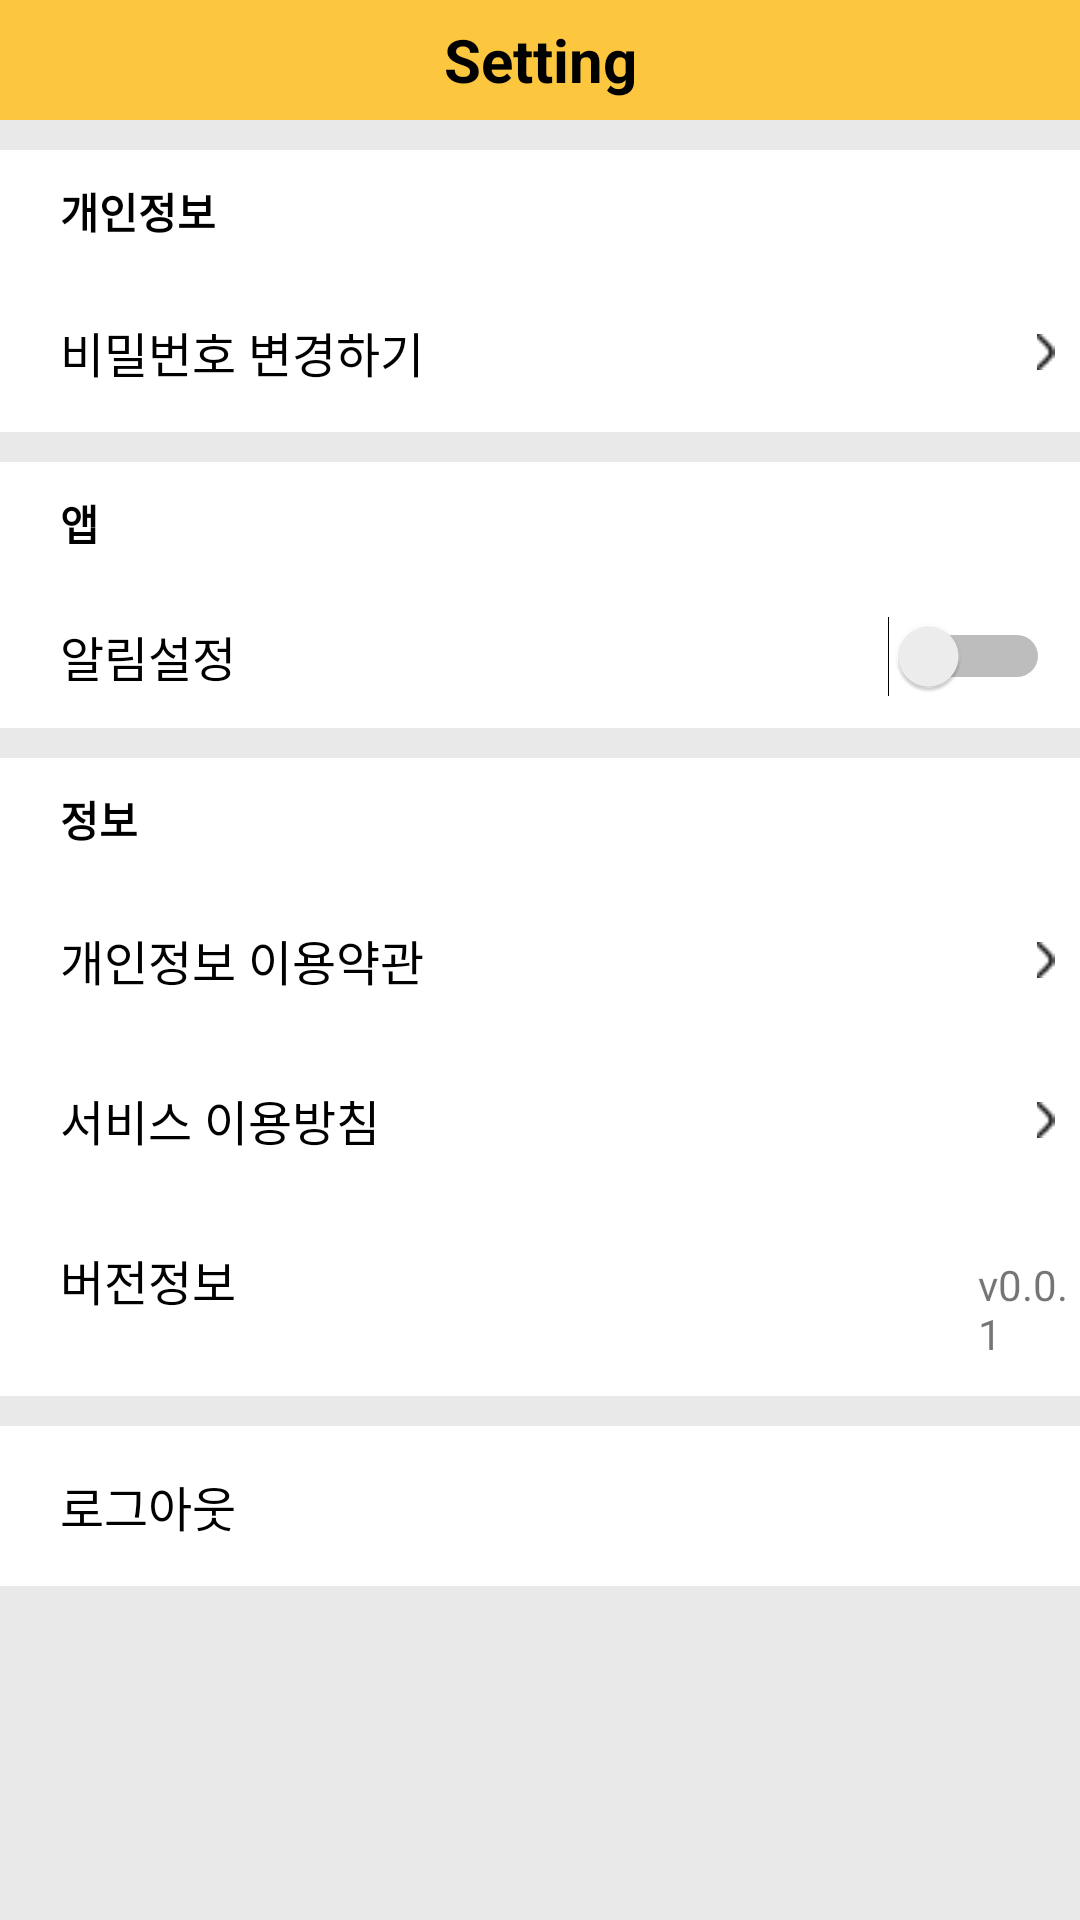

Screen size 1080w x 1920h. Icon name, then its box in pixels as (x1, y1, x2, y2):
next: (1037, 334, 1055, 370), (1037, 942, 1055, 978), (1037, 1102, 1055, 1138)
